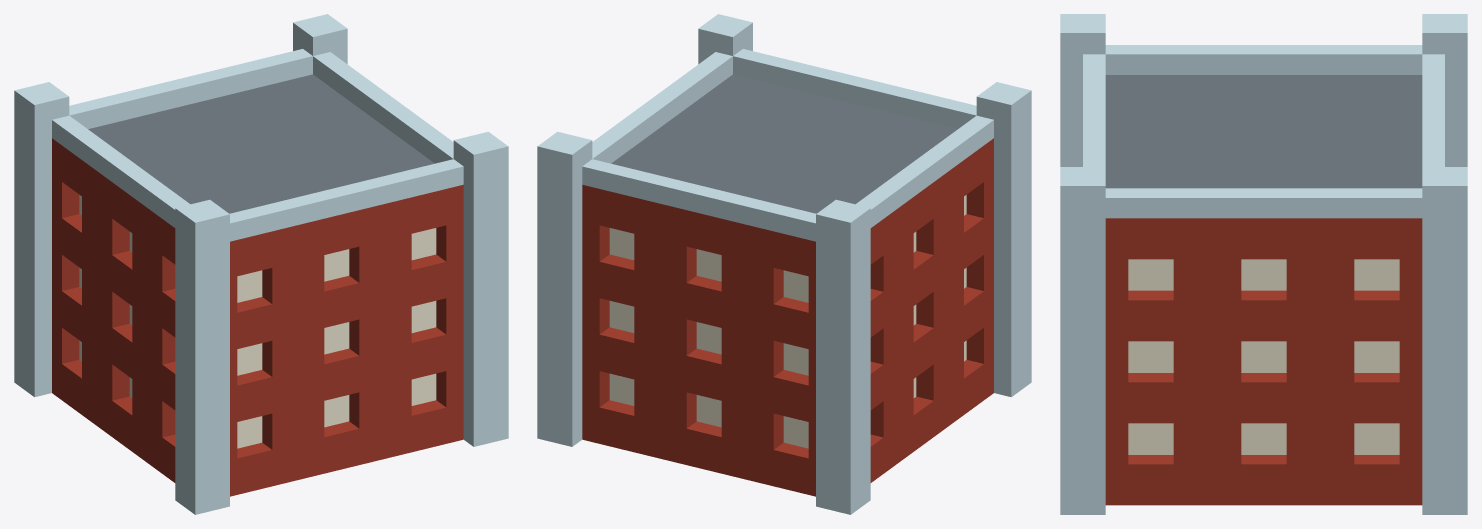
Rendered from Building_11 (Red).obj.
3 views of the same model, side by side, from view 1: azimuth 30°, elevation 25°; view 2: azimuth 150°, elevation 25°; view 3: azimuth 270°, elevation 25° (orthographic). The views are drawn at different scales.
Visible parts, largest first — view 1: Building_11_(Red); view 2: Building_11_(Red); view 3: Building_11_(Red).
Part boxes in pixels (x1,y1,x2,y2): Building_11_(Red): [14, 14, 508, 514]; Building_11_(Red): [537, 14, 1031, 514]; Building_11_(Red): [1060, 14, 1467, 514].
Bounding box in the file's own units: 1.8 × 1.6 × 1.8.
